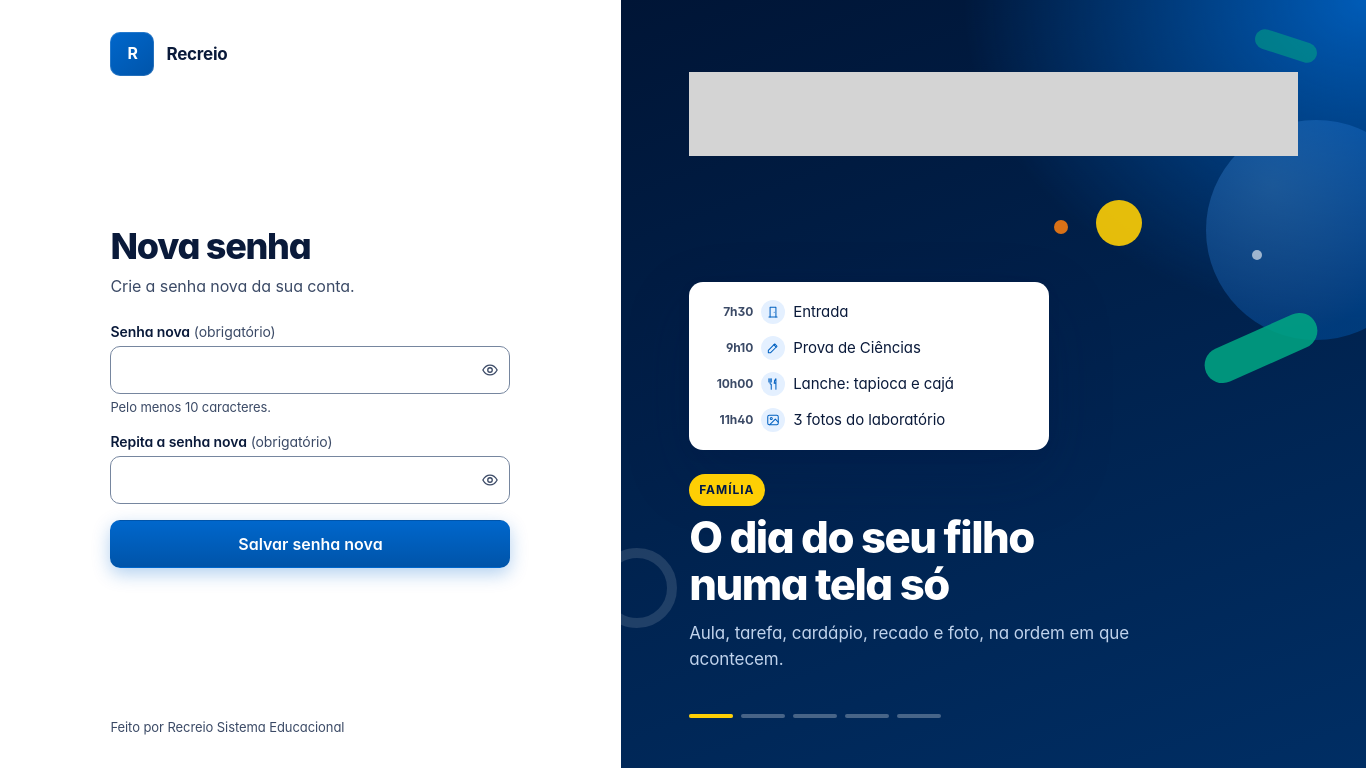
Test case: nova senha › senha curta ou diferente não sai do formulário
The width and height of the screenshot is (1366, 768).
Type "curta" into the password field labelled "Senha nova (obrigatório)".
click(296, 370); type("curta")  # box [124,347,468,393]
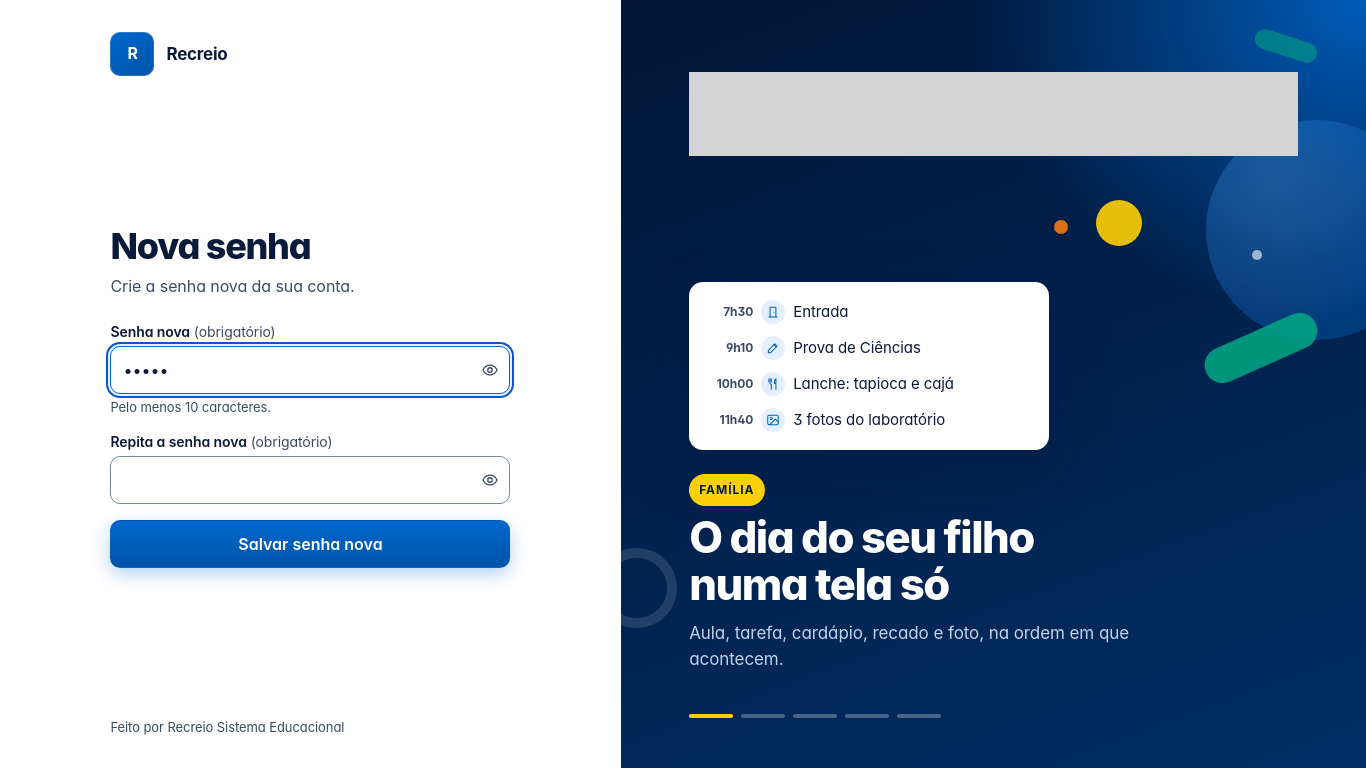
Type "outra" into the password field labelled "Repita a senha nova (obrigatório)".
click(296, 480); type("outra")  # box [124,457,468,503]
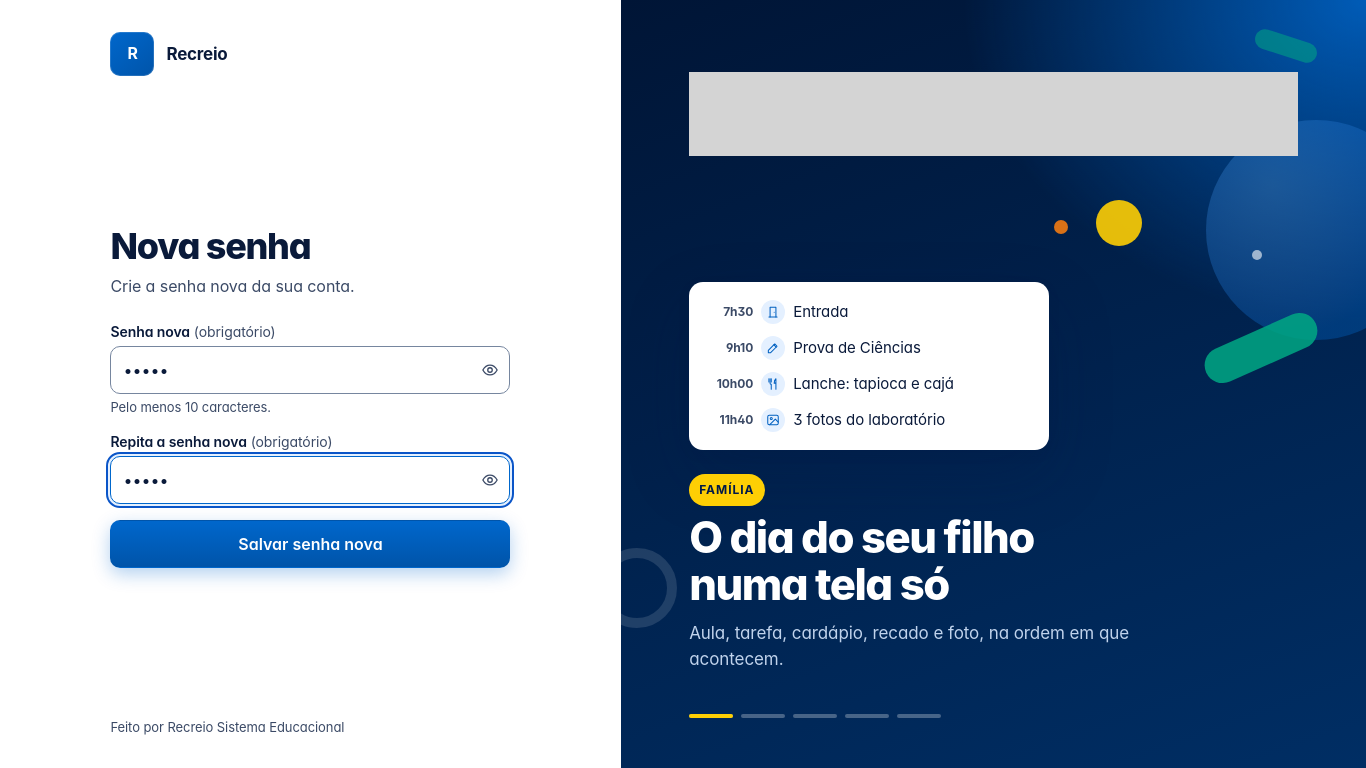
Click the button "Salvar senha nova".
click(310, 544)  # box [110,520,510,568]
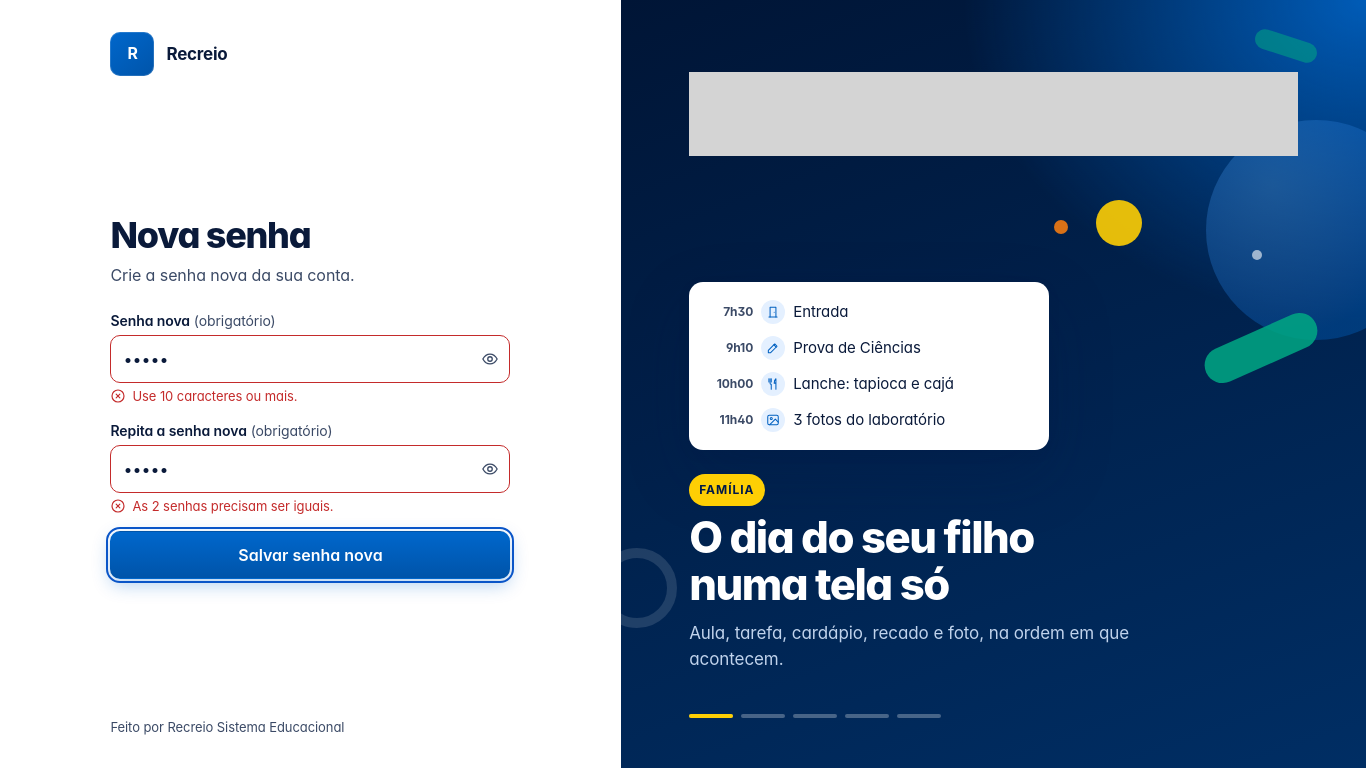
expect the text "Use 10 caracteres ou mais." is shown: met, box [110,387,298,405]
expect the text "As 2 senhas precisam ser iguais." is shown: met, box [110,497,334,515]
